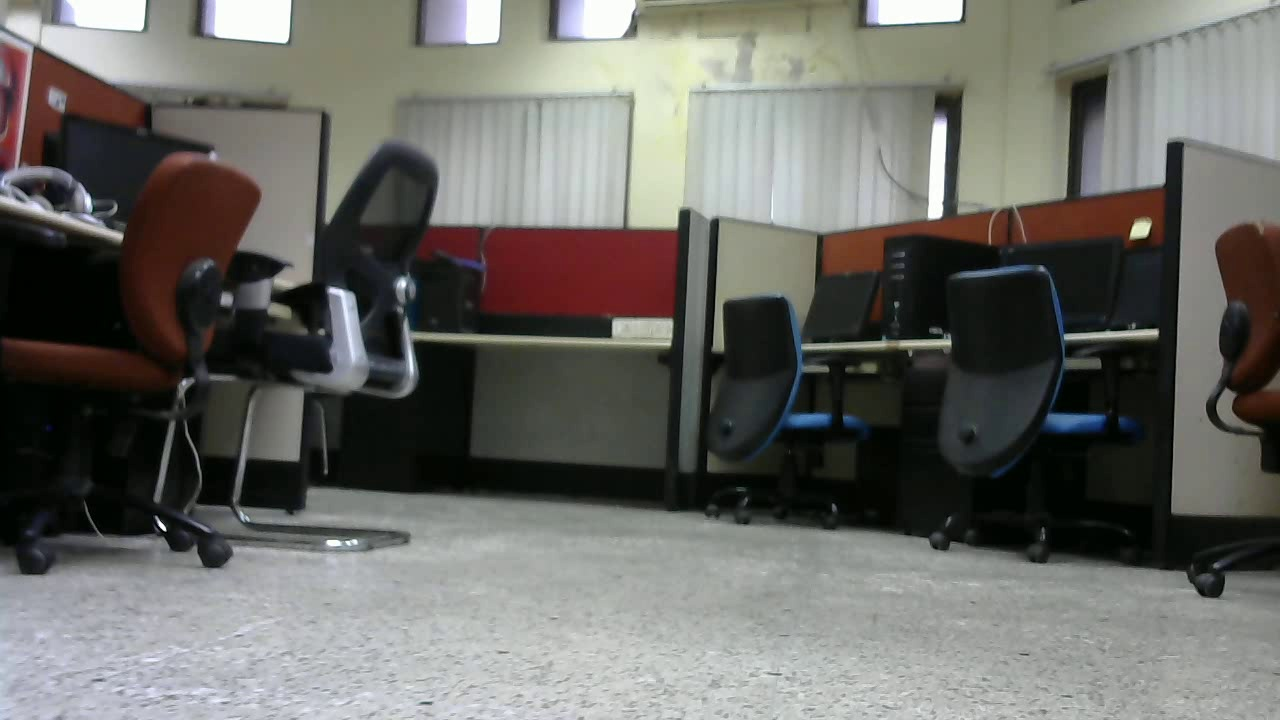chair: (8, 149, 258, 572), (280, 138, 449, 555), (918, 266, 1140, 563), (685, 295, 885, 531)
